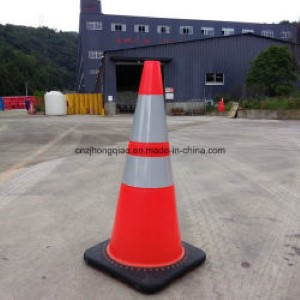traffic cone: (83, 60, 206, 294)
